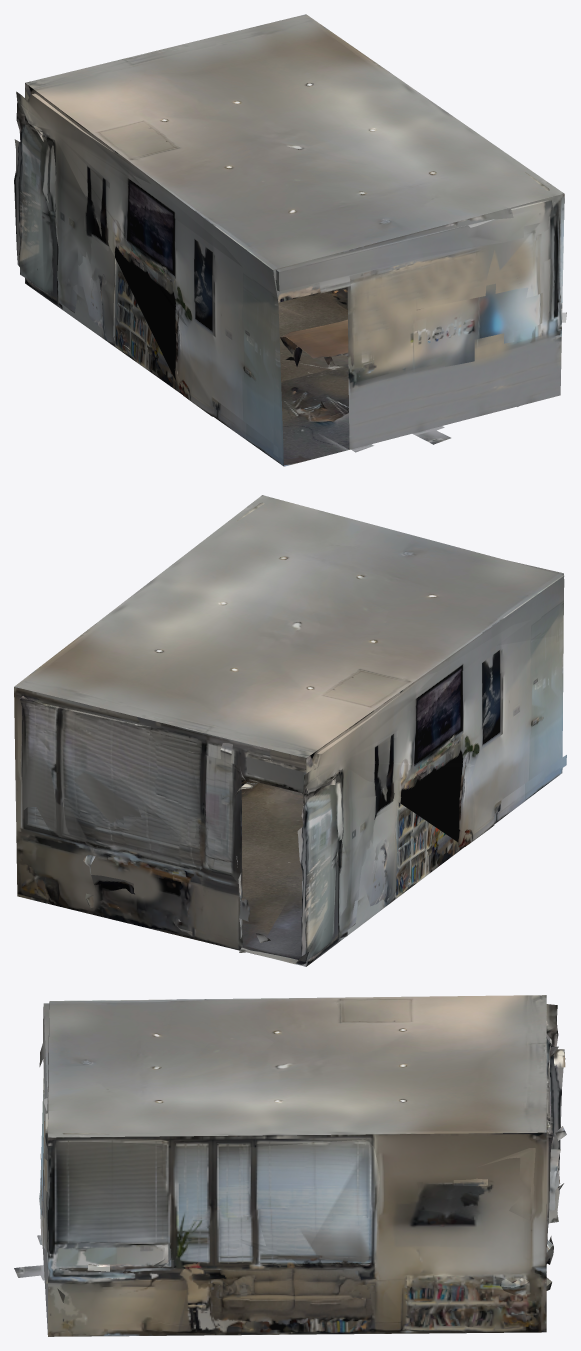
The model's file is Dean_room_2-IM.fbx.
3 views of the same model, one above another, from view 1: azimuth 30°, elevation 25°; view 2: azimuth 150°, elevation 25°; view 3: azimuth 270°, elevation 25° (orthographic). The views are drawn at different scales.
Parts seen in each view (by area): view 1: Dean_room_2-IM; view 2: Dean_room_2-IM; view 3: Dean_room_2-IM.
Boxes of the visible parts, left/top/right/bottom form: Dean_room_2-IM: left=14, top=14, right=566, bottom=466; Dean_room_2-IM: left=14, top=495, right=566, bottom=966; Dean_room_2-IM: left=14, top=995, right=566, bottom=1336.
Size of the model in its own units: 415 by 268 by 652.
1 material, 1 textured.
